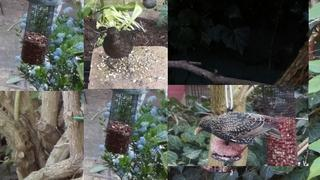blackbird: (102, 27, 141, 76)
starling: (194, 112, 282, 145)
